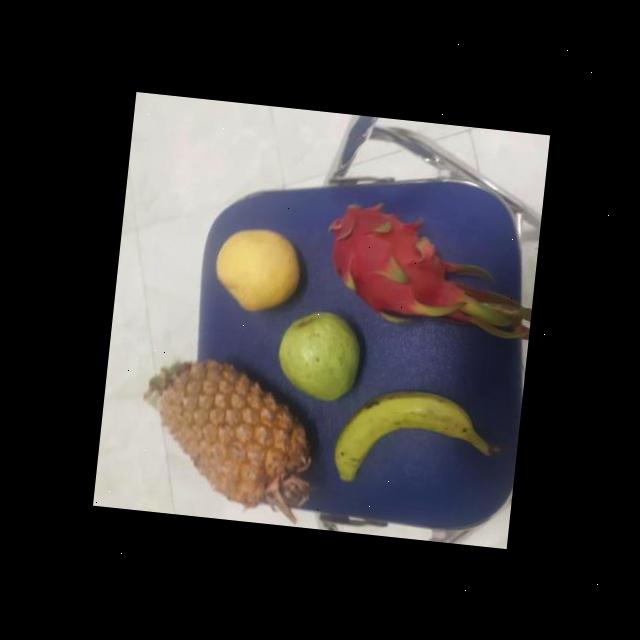banana: (332, 380, 477, 492)
guava: (268, 304, 366, 408)
pear: (207, 218, 306, 318)
pineapple: (138, 356, 322, 518)
pitaya: (321, 194, 468, 328)
